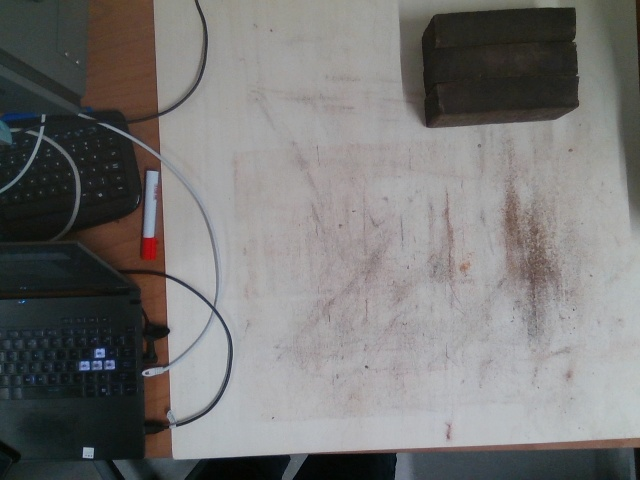brick-side: (438, 76, 575, 114), (440, 42, 577, 79), (439, 7, 576, 44)
